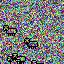sheep: (3, 24, 17, 36), (24, 37, 38, 49), (12, 53, 26, 64), (7, 56, 21, 64)
